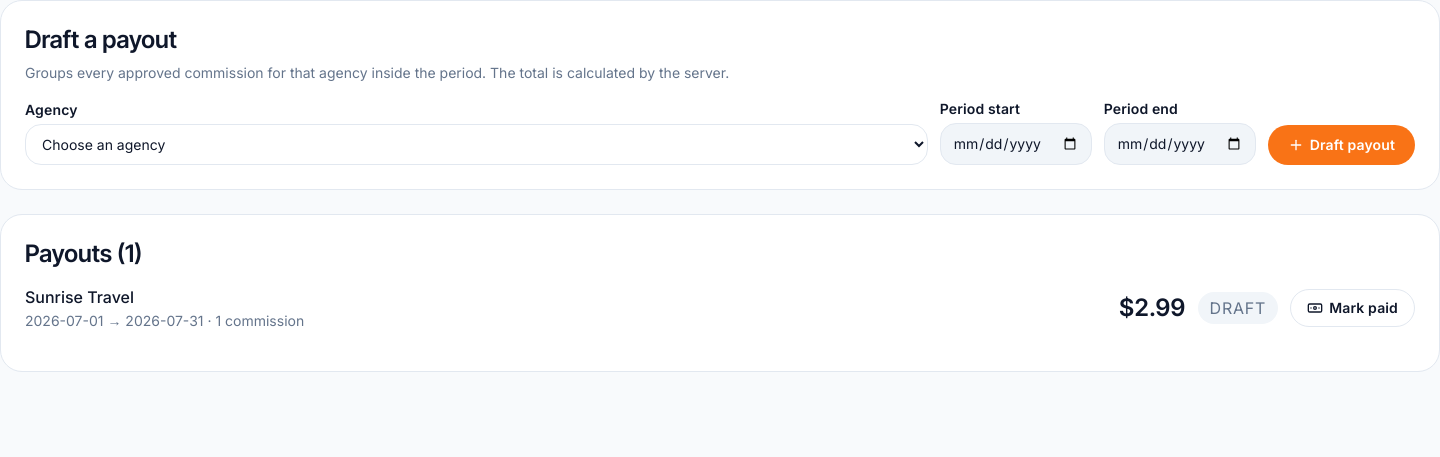
Test: drafting a payout › says when a period caught no approved commissions
The width and height of the screenshot is (1440, 457).
Select "Sunrise Travel" in the dropdown named "agency" at [476, 144], box x1=25 y1=124 x2=928 y2=165
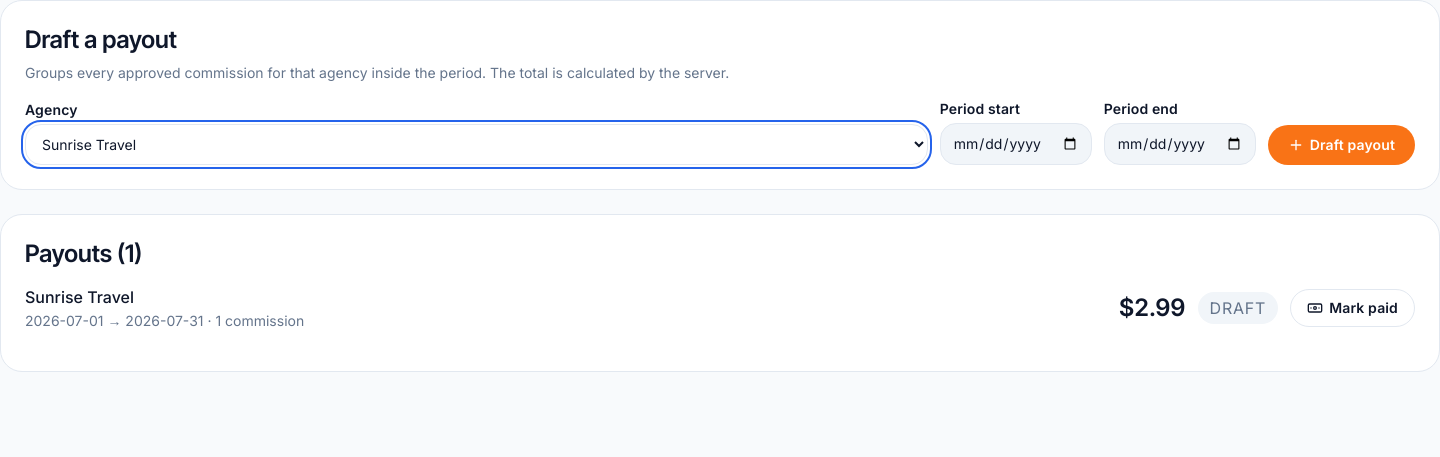
Type "2026-09-01" into the 1st date field named "period start" at [1016, 144], box x1=940 y1=123 x2=1092 y2=165
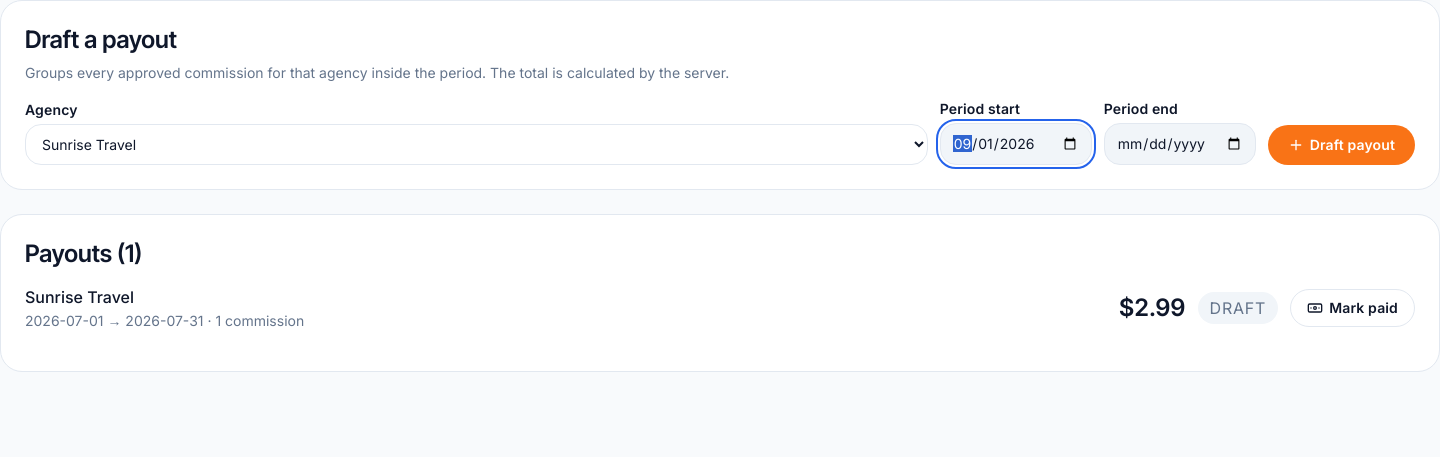
Type "2026-09-30" into the 2nd date field named "period end" at [1180, 144], box x1=1104 y1=123 x2=1256 y2=165
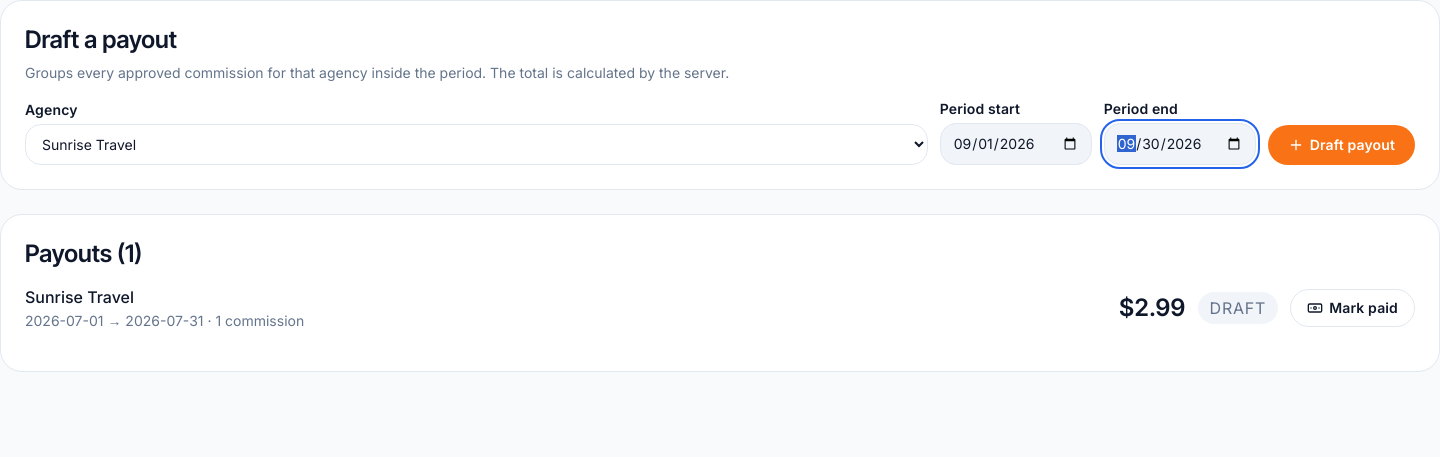
Click the 1st button named "draft payout" at [1341, 145], box x1=1268 y1=125 x2=1415 y2=165
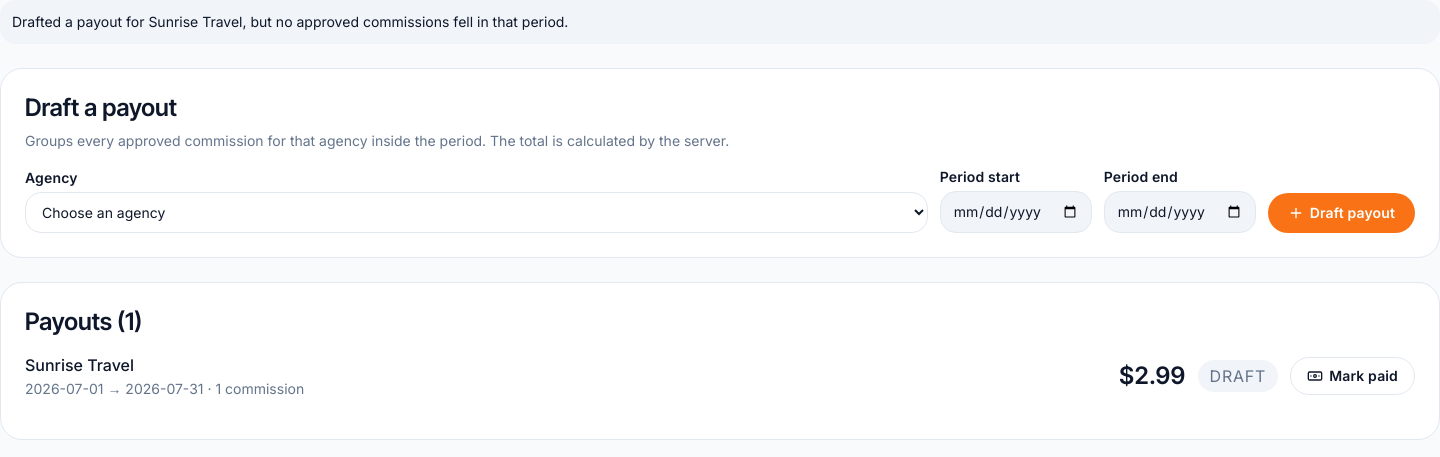
expect the text "no approved commissions fell in that period" is shown: met, box x1=12 y1=13 x2=568 y2=30
